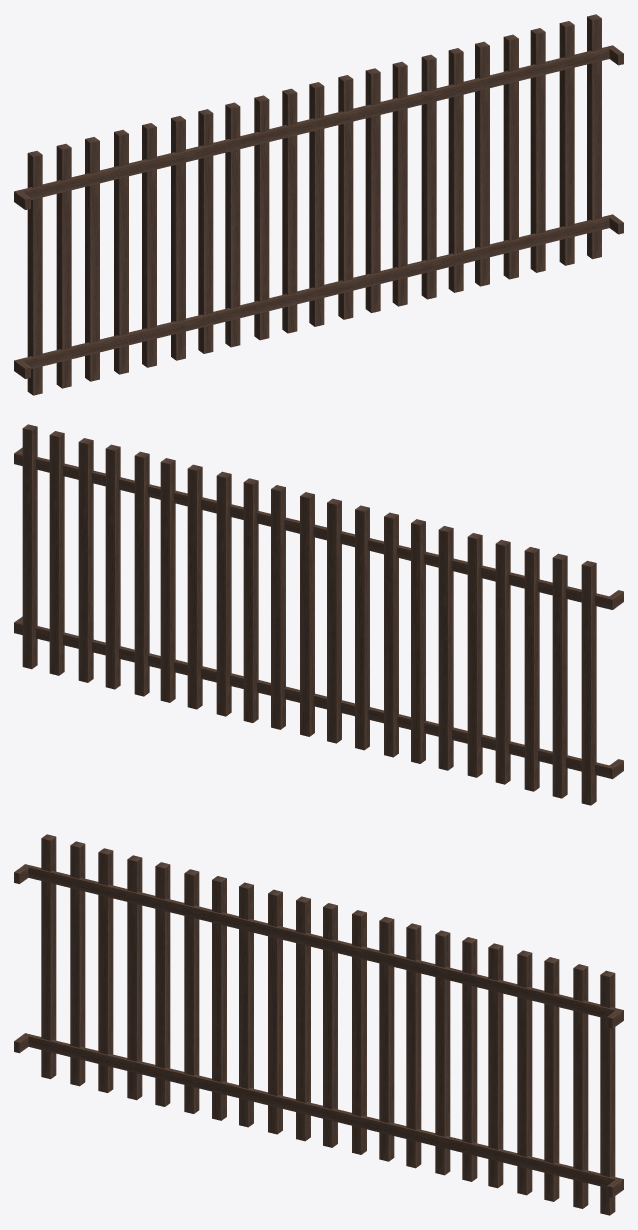
The model's file is kousi04.fbx.
The picture shows the model from 3 angles, top to bottom: view 1: azimuth 30°, elevation 25°; view 2: azimuth 150°, elevation 25°; view 3: azimuth 330°, elevation 25°; orthographic projection.
Parts seen in each view (by area): view 1: kousi04; view 2: kousi04; view 3: kousi04.
Boxes of the visible parts, x1=… form: kousi04: x1=14, y1=14, x2=623, y2=395; kousi04: x1=14, y1=424, x2=623, y2=805; kousi04: x1=14, y1=834, x2=623, y2=1215.
Bounding box in the file's own units: 343 × 131 × 15.13.
